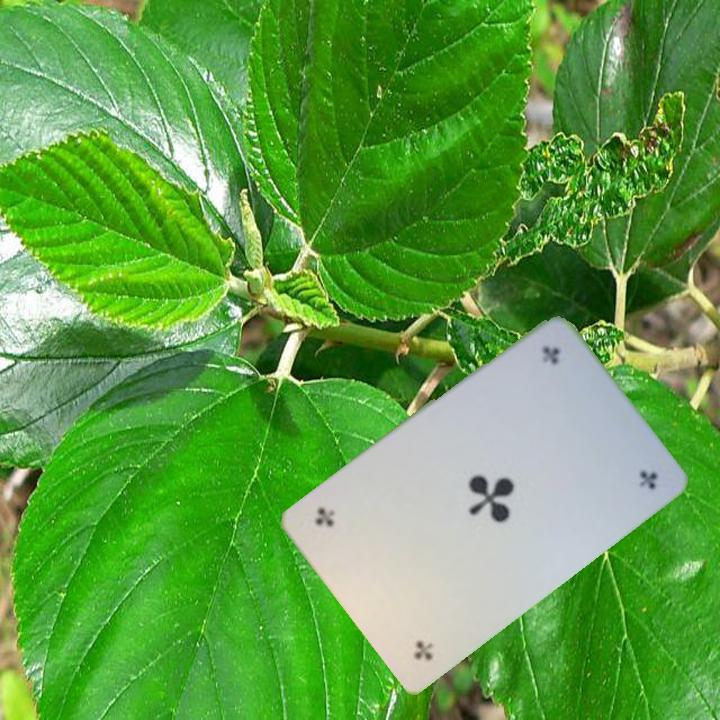c_a.png: (486, 328, 613, 457), (356, 545, 482, 675)
